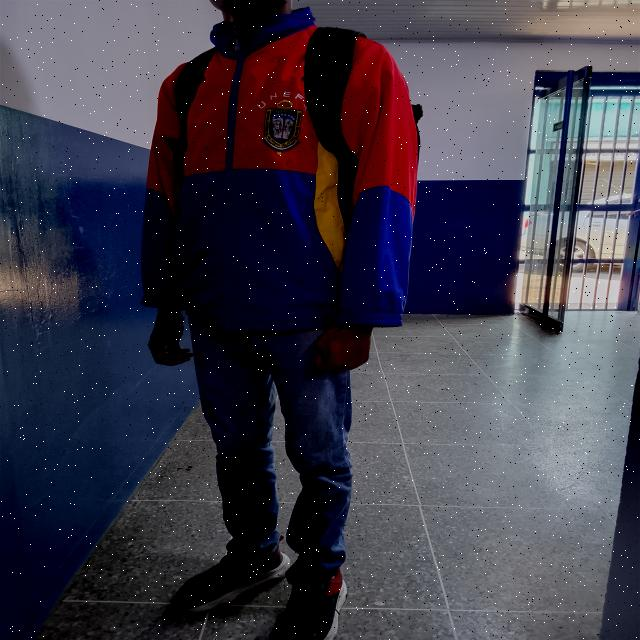chaqueta_unefa: (139, 6, 420, 333)
